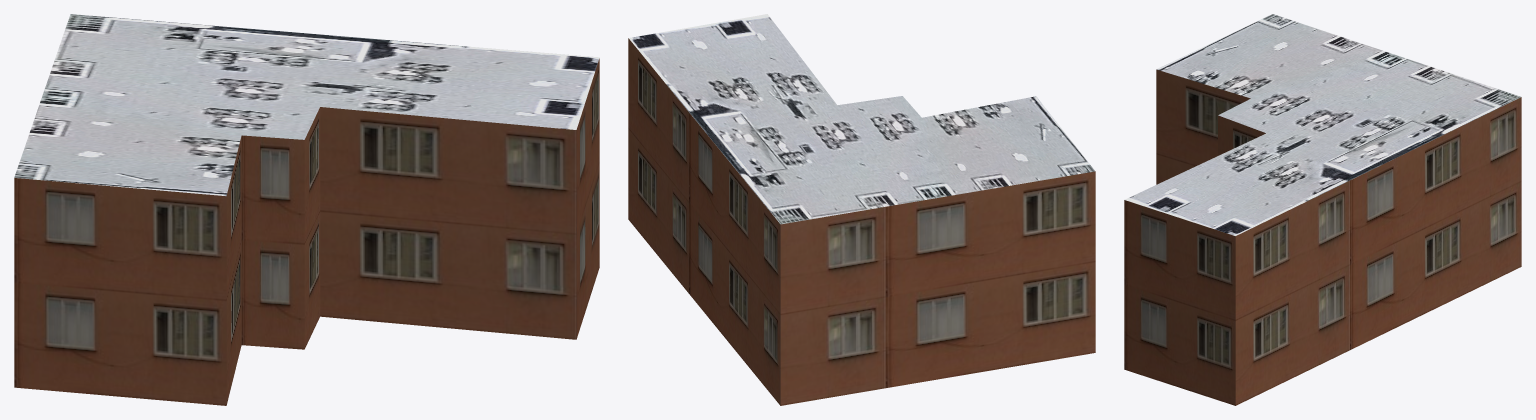
File: ResTex__98.fbx
3 renders of one model, left to right at view 1: azimuth 30°, elevation 25°; view 2: azimuth 150°, elevation 25°; view 3: azimuth 270°, elevation 25°, orthographic. The views are drawn at different scales.
Parts seen in each view (by area): view 1: CityEngineMaterial_20_m, CityEngineMaterial_m; view 2: CityEngineMaterial_20_m, CityEngineMaterial_m; view 3: CityEngineMaterial_20_m, CityEngineMaterial_m.
Boxes of the visible parts, <box> form: CityEngineMaterial_20_m: <box>14,58,599,405</box>; CityEngineMaterial_m: <box>14,14,599,196</box>; CityEngineMaterial_20_m: <box>628,38,1095,405</box>; CityEngineMaterial_m: <box>628,14,1094,224</box>; CityEngineMaterial_20_m: <box>1124,69,1521,405</box>; CityEngineMaterial_m: <box>1124,14,1520,235</box>.
Size of the model in its own units: 16.85 by 6 by 12.73.
Materials: 2 (2 with a texture image).
